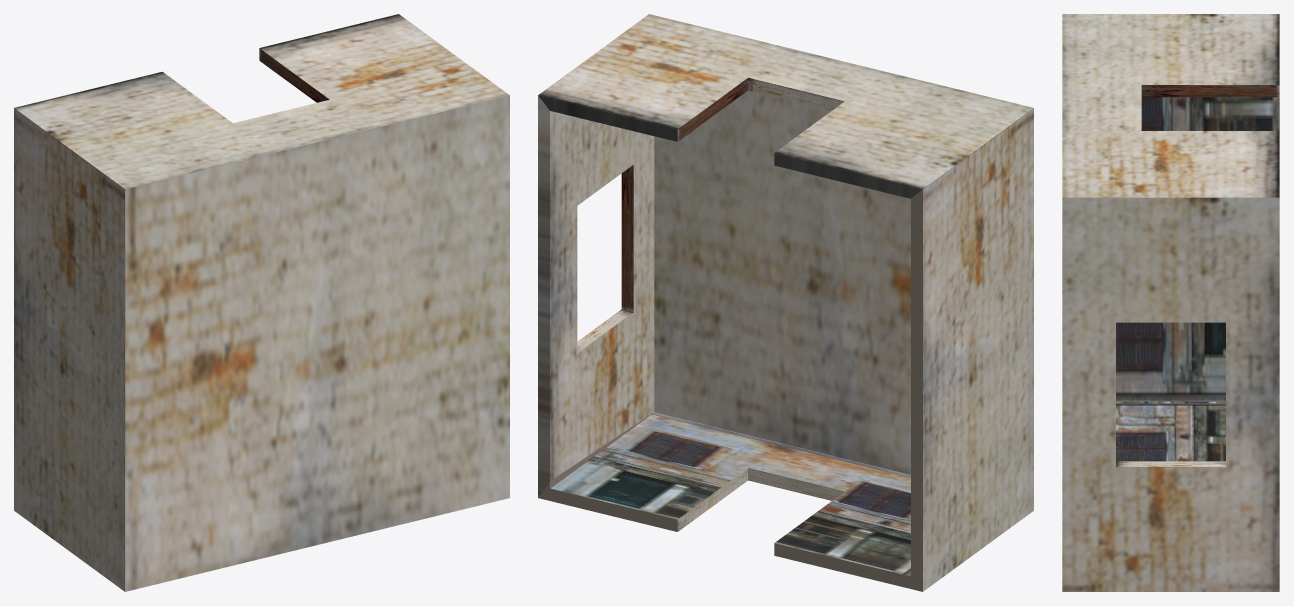
Rendered from 4x4NS_EWindow_wtf.obj.
3 views of the same model, side by side, from view 1: azimuth 30°, elevation 25°; view 2: azimuth 150°, elevation 25°; view 3: azimuth 270°, elevation 25° (orthographic). The views are drawn at different scales.
Parts seen in each view (by area): view 1: group2; view 2: group2; view 3: group2.
Part boxes in pixels (left/top/right/bottom): group2: left=14, top=14, right=509, bottom=591; group2: left=538, top=14, right=1033, bottom=591; group2: left=1062, top=14, right=1279, bottom=591.
Size of the model in its own units: 660 by 660 by 330.
